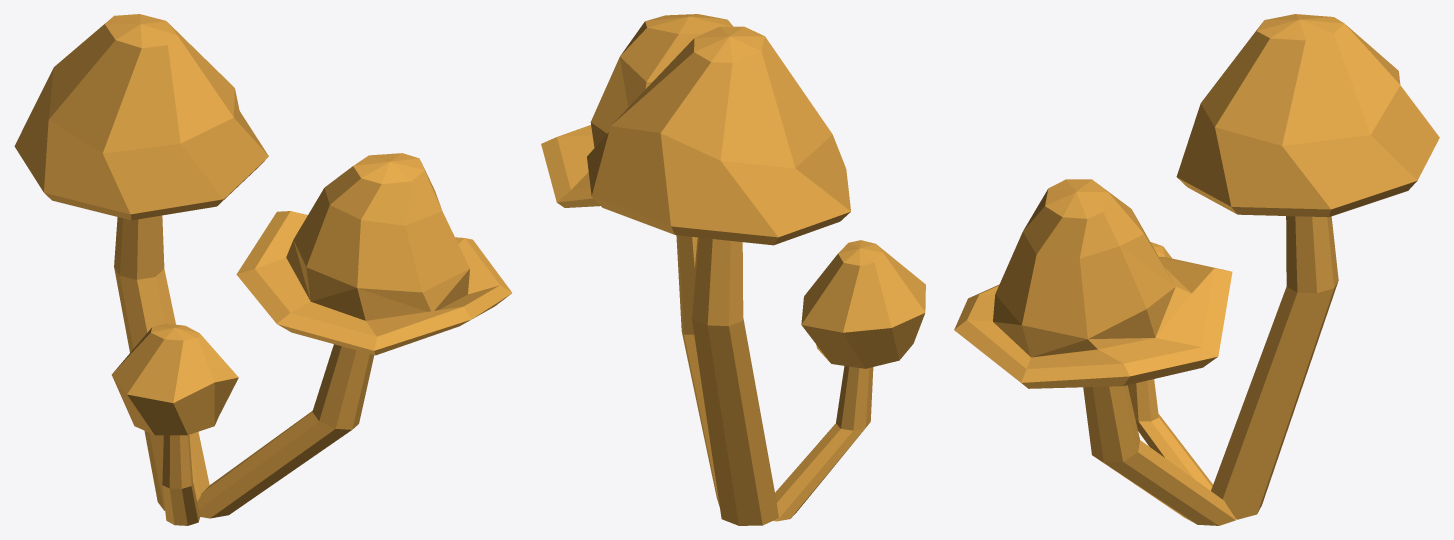
The model's file is mushroom-magical-cluster-a.fbx.
3 views of the same model, side by side, from view 1: azimuth 30°, elevation 25°; view 2: azimuth 150°, elevation 25°; view 3: azimuth 270°, elevation 25° (orthographic). The views are drawn at different scales.
Visible parts, largest first — view 1: mushroom-magical-cluster-a; view 2: mushroom-magical-cluster-a; view 3: mushroom-magical-cluster-a.
Part boxes in pixels (x1=…): mushroom-magical-cluster-a: x1=14, y1=14, x2=511, y2=525; mushroom-magical-cluster-a: x1=541, y1=14, x2=925, y2=525; mushroom-magical-cluster-a: x1=954, y1=14, x2=1439, y2=525.
Bounding box in the file's own units: 0.2102 × 0.2621 × 0.2376.
